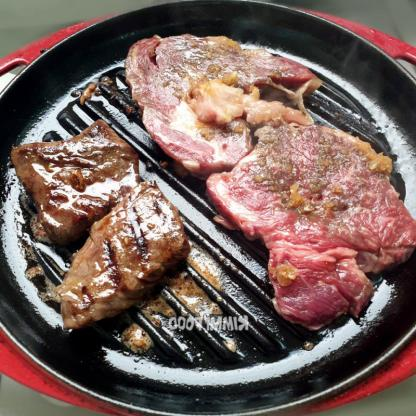Carne: (56, 189, 188, 336), (12, 120, 139, 229)
